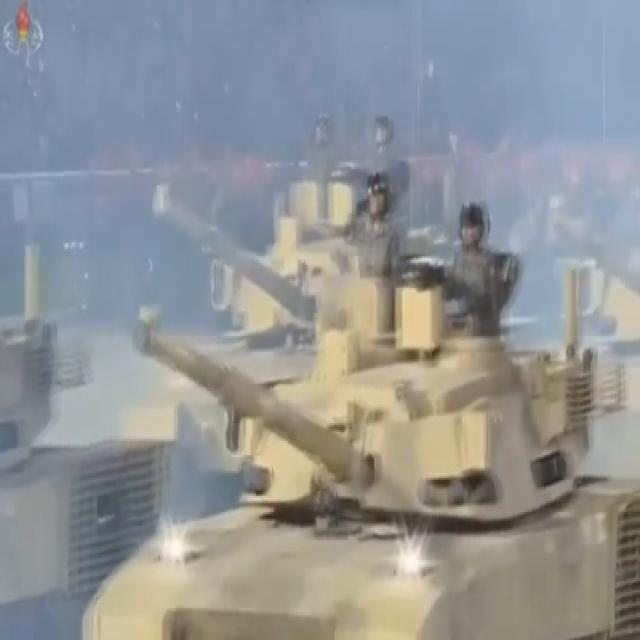north tank: (90, 237, 640, 640), (156, 138, 420, 493)
